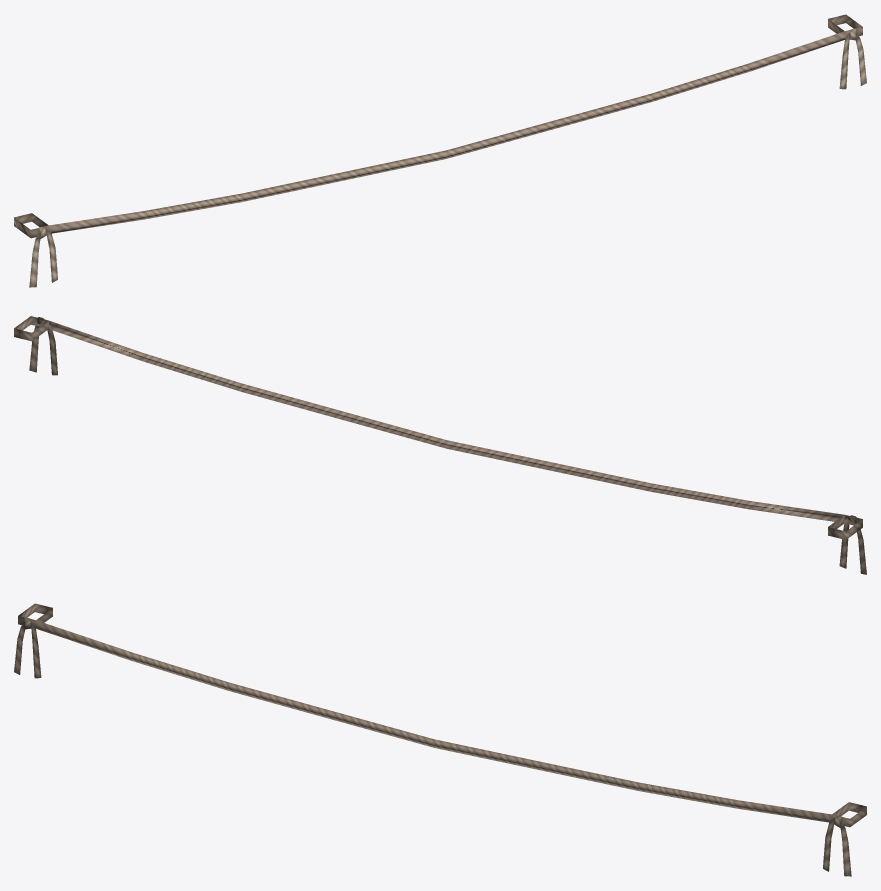
Rendered from jsf_2P_String_s01_02.fbx.
3 renders of one model, top to bottom at view 1: azimuth 30°, elevation 25°; view 2: azimuth 150°, elevation 25°; view 3: azimuth 330°, elevation 25°, orthographic.
Parts seen in each view (by area): view 1: jsf_2P_String_s01_02; view 2: jsf_2P_String_s01_02; view 3: jsf_2P_String_s01_02.
Part boxes in pixels (x1,y1,x2,y2): jsf_2P_String_s01_02: [14, 14, 866, 287]; jsf_2P_String_s01_02: [14, 316, 866, 574]; jsf_2P_String_s01_02: [14, 603, 866, 876].
Size of the model in its own units: 149 by 9.85 by 5.92.
